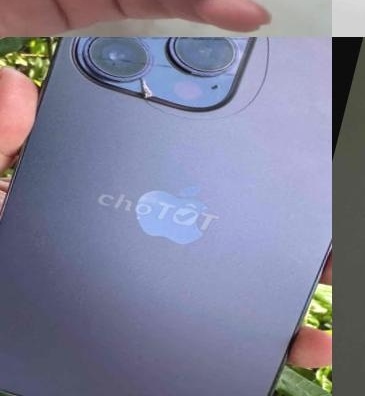scratch: (120, 84, 242, 139), (206, 62, 281, 139), (218, 37, 306, 81)
